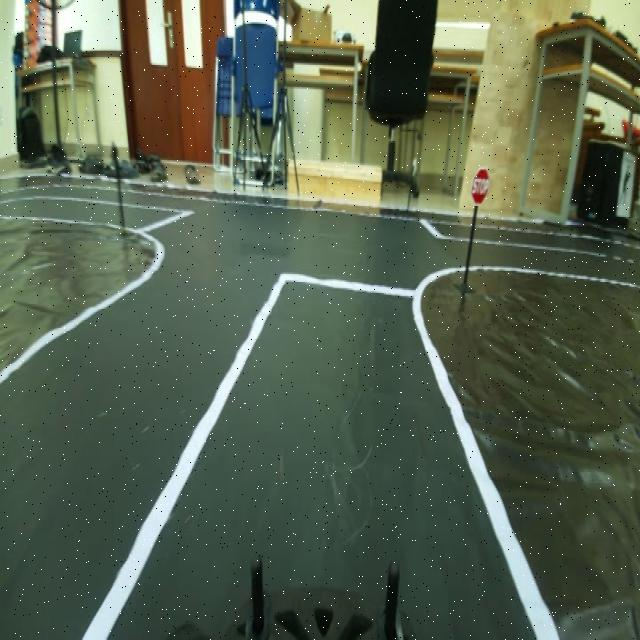stop: (468, 163, 492, 208)
